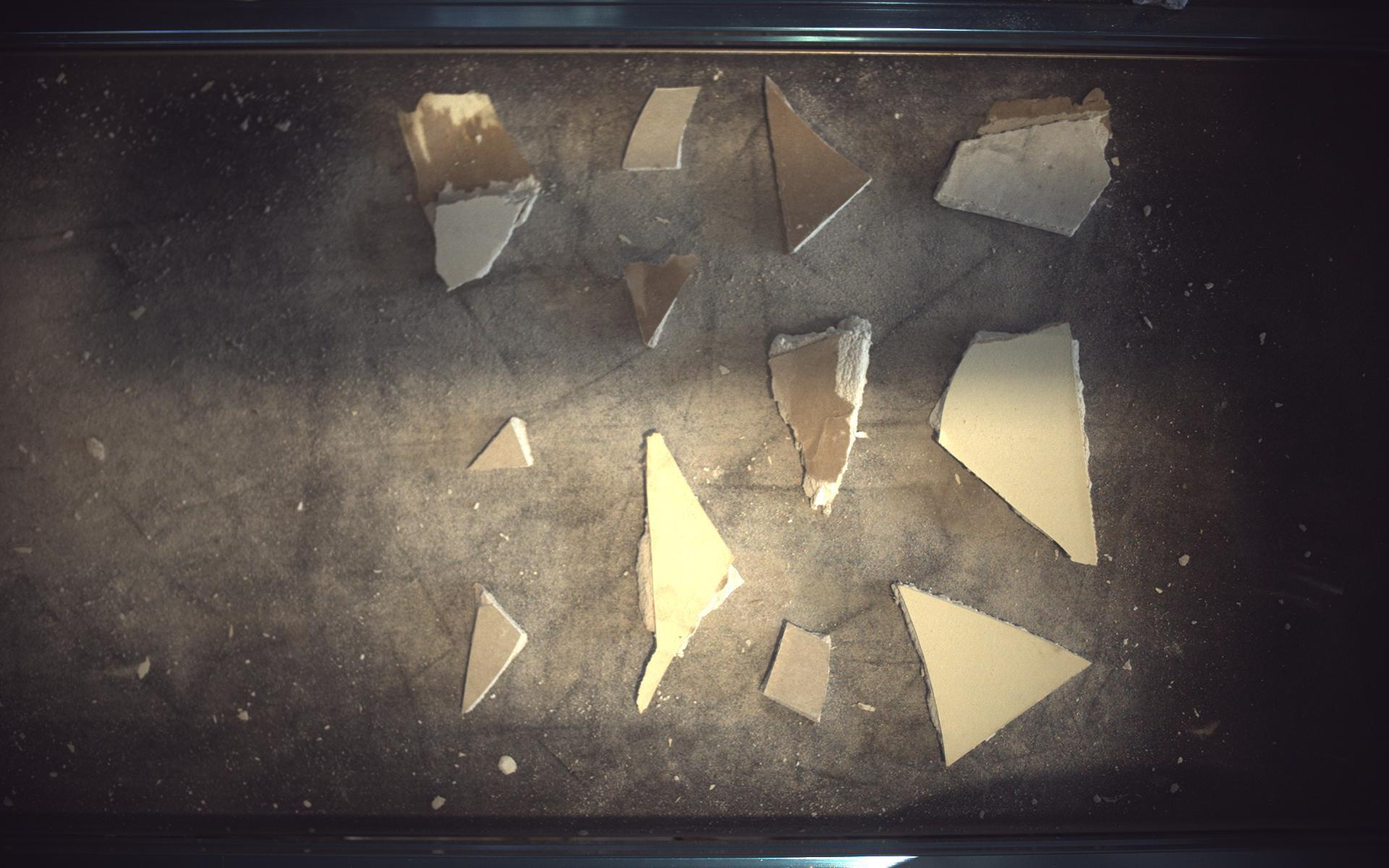gypsum_board: (932, 323, 1100, 566), (894, 584, 1092, 767), (637, 433, 744, 714), (399, 91, 541, 289), (936, 88, 1113, 235), (770, 315, 873, 516), (768, 75, 873, 252), (462, 585, 528, 715), (625, 254, 699, 347), (623, 85, 702, 170), (765, 624, 832, 723), (468, 417, 534, 471)
